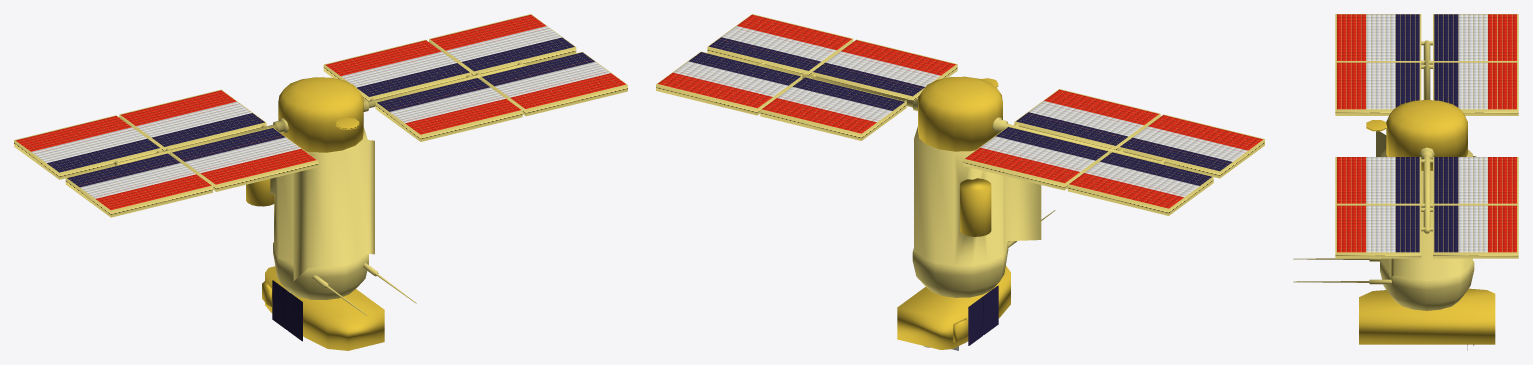
The model's file is satellite_1784874132483_model.glb.
3 renders of one model, left to right at view 1: azimuth 30°, elevation 25°; view 2: azimuth 150°, elevation 25°; view 3: azimuth 270°, elevation 25°, orthographic. The views are drawn at different scales.
Visible parts, largest first — view 1: Cylinder, Cube.007, Cube.011, Cube.010, Cube.009, Cube.008, Cylinder.001, Cube, Cylinder.012, Cube.005, Cylinder.009; view 2: Cylinder, Cube.007, Cube.008, Cube.011, Cube.010, Cube.009, Cylinder.001, Cube, Cylinder.009, Cylinder.012, Cube.005; view 3: Cube.007, Cube.011, Cube.010, Cube.009, Cube.008, Cube, Cylinder, Cylinder.001, Cylinder.012, Cylinder.015, Cylinder.011.
Part boxes in pixels (box(x1,y1,x2,y2)): Cylinder: box(270, 127, 374, 299); Cube.007: box(14, 14, 627, 217); Cube.011: box(67, 52, 625, 209); Cube.010: box(16, 15, 574, 172); Cube.009: box(172, 78, 520, 184); Cube.008: box(121, 40, 469, 146); Cylinder.001: box(278, 77, 363, 152); Cube: box(265, 266, 384, 350); Cylinder.012: box(115, 64, 525, 165); Cube.005: box(272, 280, 302, 341); Cylinder.009: box(246, 179, 274, 206); Cylinder: box(912, 126, 1041, 297); Cube.007: box(656, 14, 1264, 215); Cube.008: box(762, 77, 1107, 183); Cube.011: box(709, 14, 1262, 171); Cube.010: box(658, 52, 1211, 208); Cube.009: box(813, 40, 1158, 145); Cylinder.001: box(918, 76, 1002, 151); Cube: box(897, 265, 1010, 349); Cylinder.009: box(960, 178, 991, 236); Cylinder.012: box(757, 63, 1164, 164); Cube.005: box(968, 285, 998, 345); Cube.007: box(1335, 14, 1518, 258); Cube.011: box(1337, 14, 1419, 252); Cube.010: box(1434, 14, 1516, 252); Cube.009: box(1337, 62, 1419, 203); Cube.008: box(1434, 62, 1516, 203); Cube: box(1359, 288, 1495, 344); Cylinder: box(1376, 131, 1474, 310); Cylinder.001: box(1386, 99, 1467, 170); Cylinder.012: box(1419, 40, 1434, 233); Cylinder.015: box(1293, 258, 1391, 284); Cylinder.011: box(1366, 120, 1386, 131).
Bounding box in the file's own units: 12.29 × 5.61 × 4.91.
